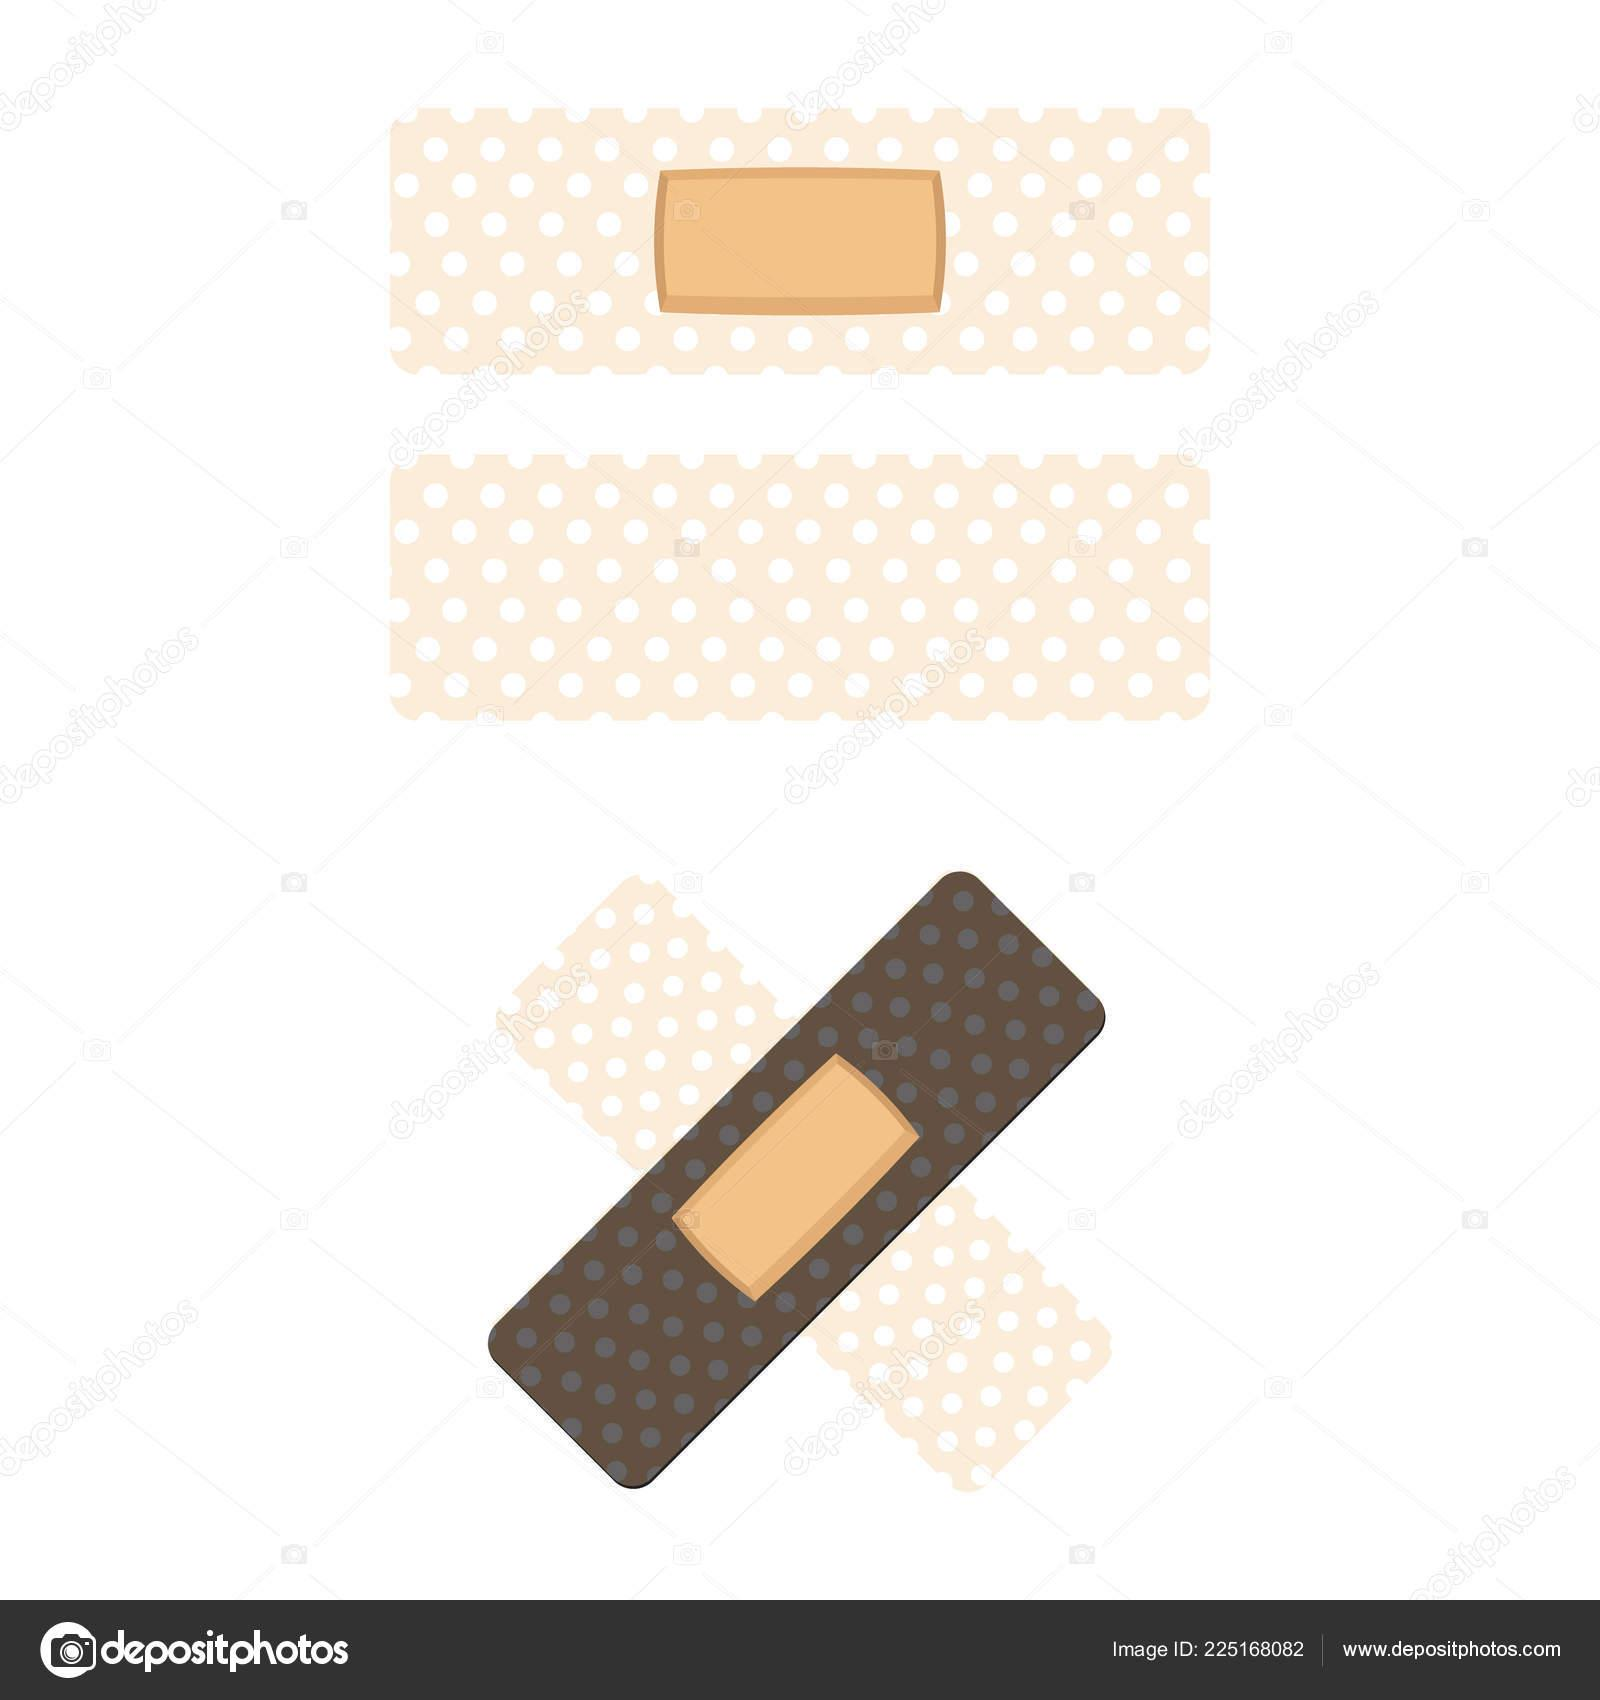bandage: (490, 867, 1119, 1505), (377, 443, 1211, 727), (380, 104, 1218, 370)
